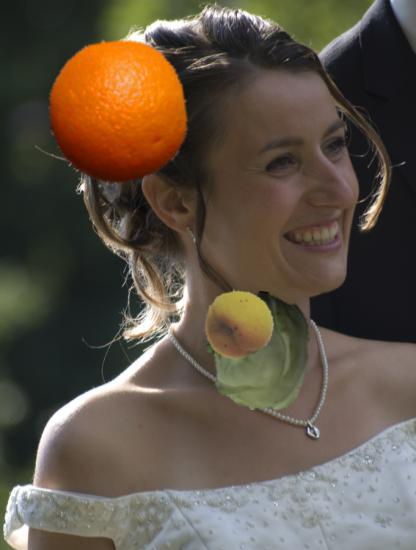Kohlrabi: (196, 291, 315, 410)
Orange: (44, 38, 191, 185)
Peach: (202, 288, 274, 360)
